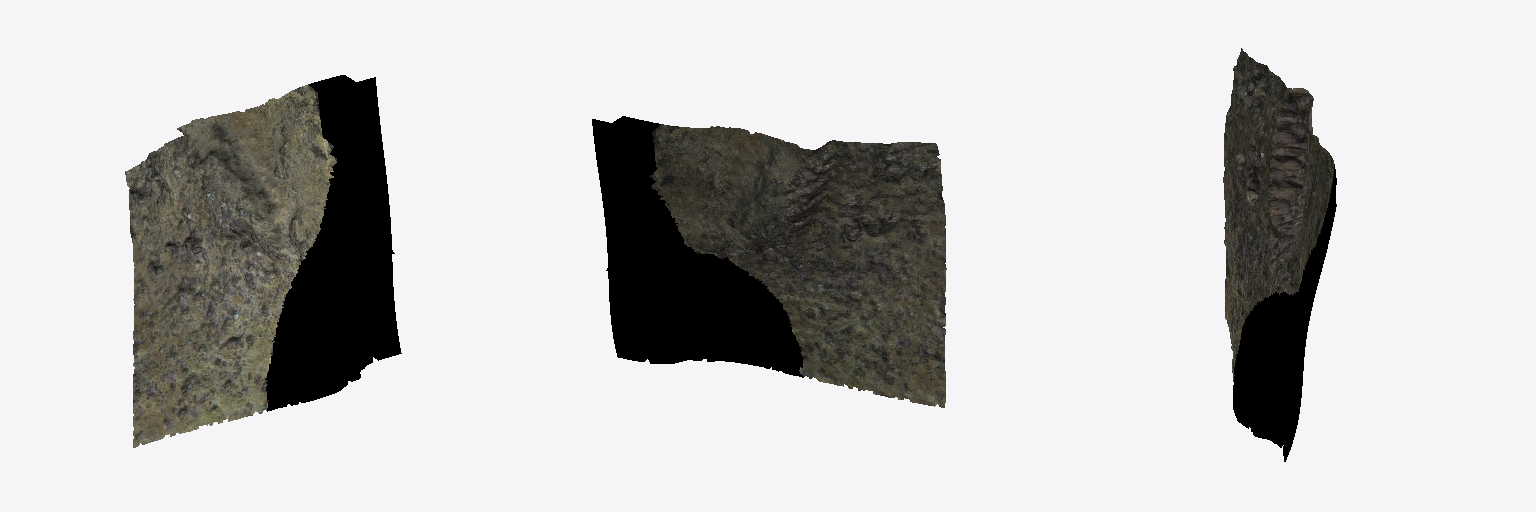
3 views of the same model, side by side, from view 1: azimuth 30°, elevation 25°; view 2: azimuth 150°, elevation 25°; view 3: azimuth 270°, elevation 25° (orthographic).
Bounding box in the file's own units: 1.97 × 1.7 × 0.6431.
Materials: 1 (1 with a texture image).